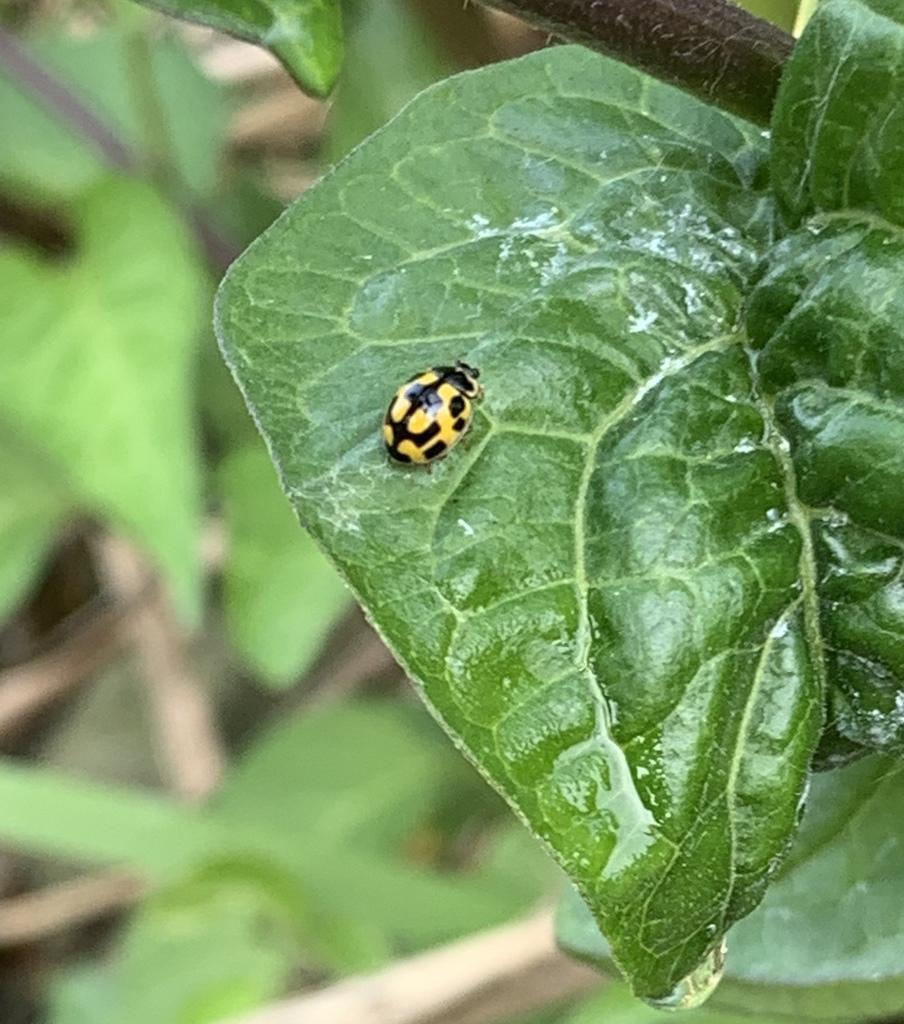ladybug: (382, 358, 488, 478)
